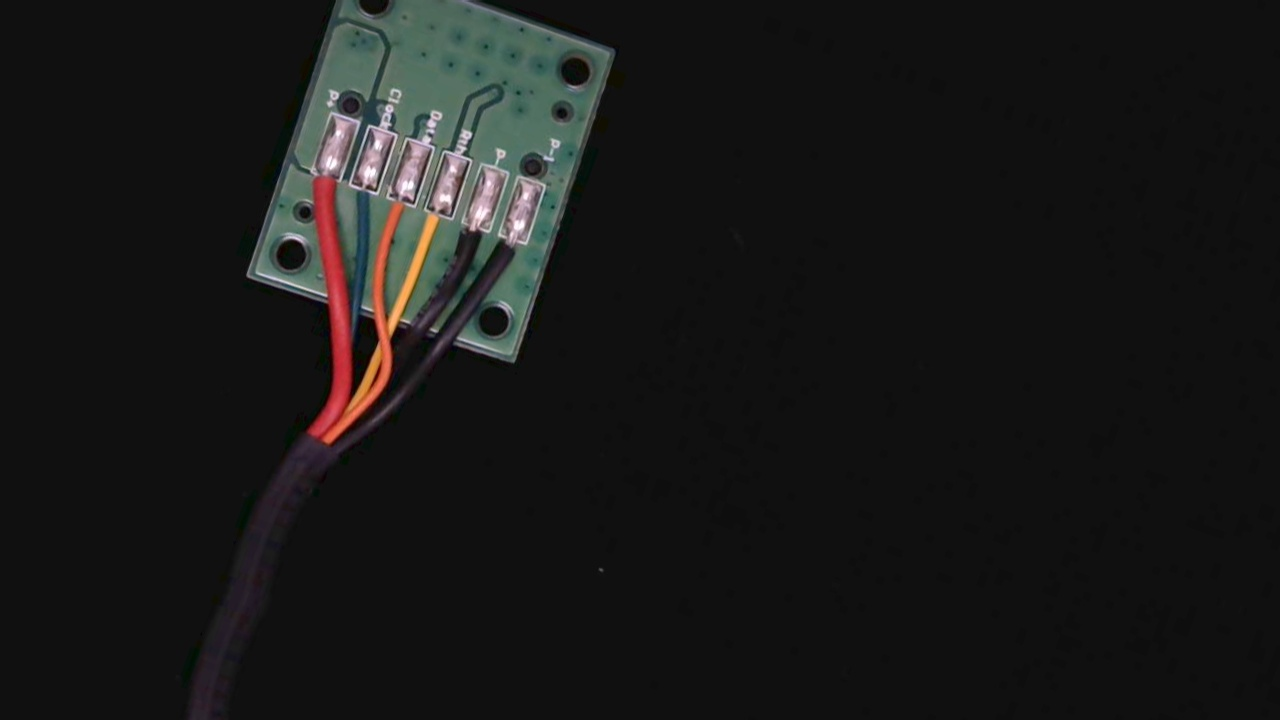Black: (440, 205, 493, 279)
Black1: (480, 217, 534, 291)
Green: (331, 165, 383, 235)
Orange: (372, 179, 419, 244)
Red: (294, 154, 344, 222)
Yellow: (406, 190, 456, 263)
